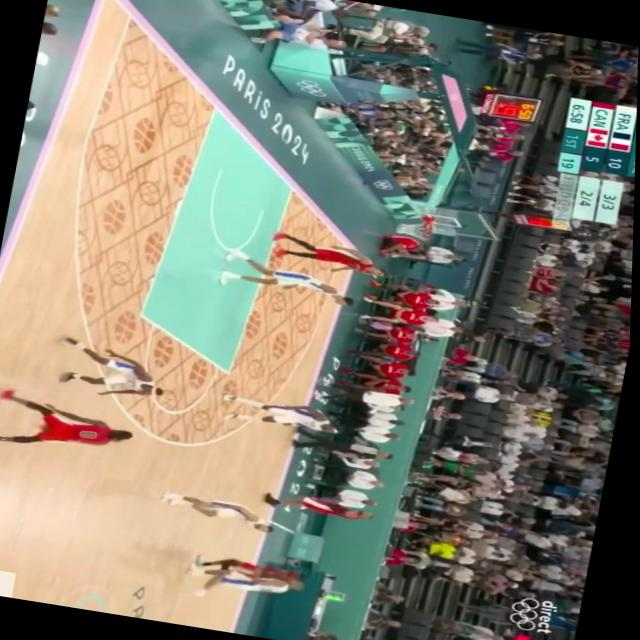ball_handler: (0, 386, 141, 466)
